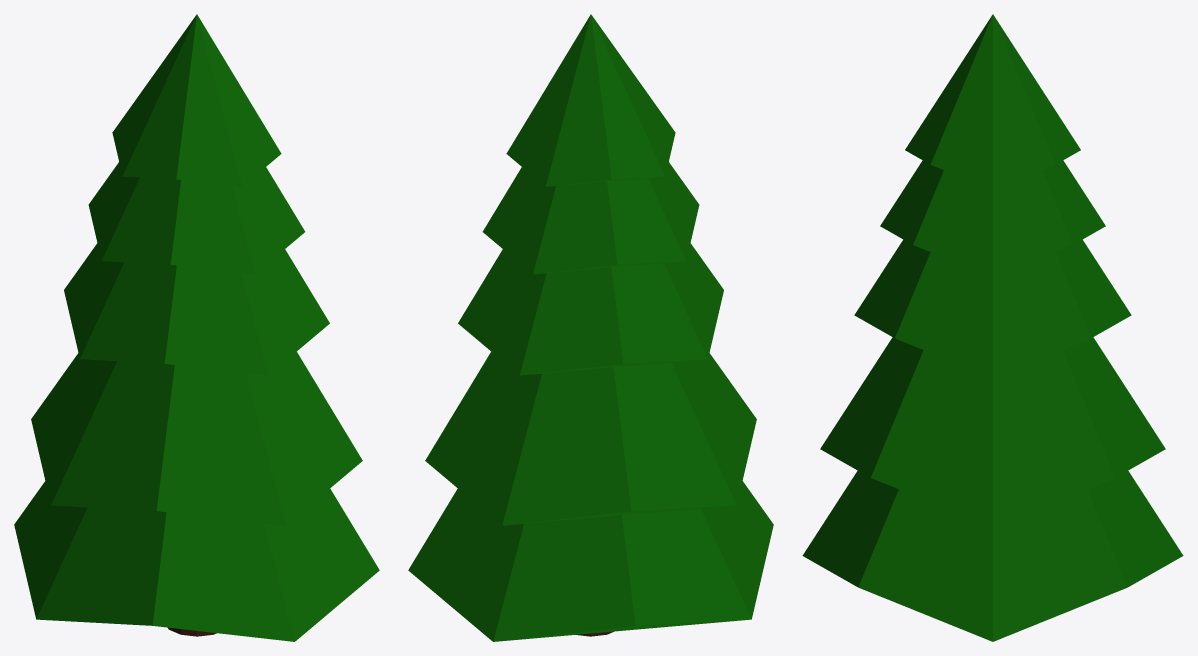
Rendered from tree_w_wind.fbx.
3 renders of one model, left to right at view 1: azimuth 30°, elevation 25°; view 2: azimuth 150°, elevation 25°; view 3: azimuth 270°, elevation 25°, orthographic. The views are drawn at different scales.
Parts seen in each view (by area): view 1: tree.001; view 2: tree.001; view 3: tree.001.
Boxes of the visible parts, left/top/right/bottom form: tree.001: left=14, top=14, right=379, bottom=641; tree.001: left=408, top=14, right=773, bottom=641; tree.001: left=802, top=14, right=1183, bottom=641.
Size of the model in its own units: 53.63 by 97.04 by 56.53.
